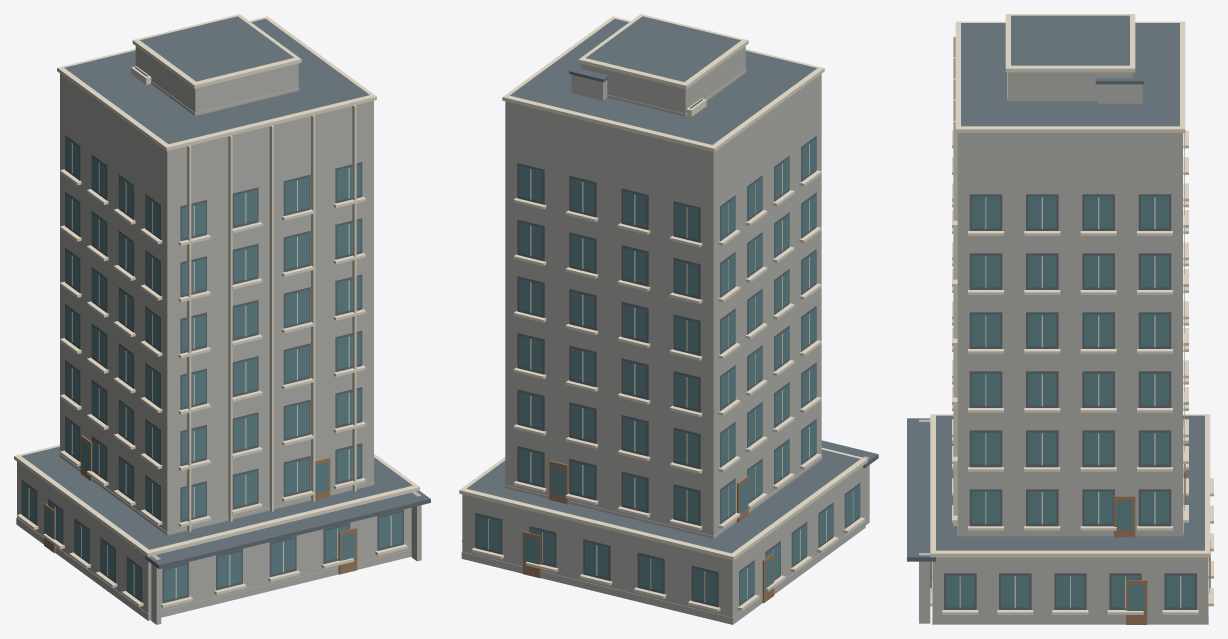
Rendered from q03-office.glb.
The picture shows the model from 3 angles, left to right: view 1: azimuth 30°, elevation 25°; view 2: azimuth 150°, elevation 25°; view 3: azimuth 270°, elevation 25°; orthographic projection. The views are drawn at different scales.
Bounding box in the file's own units: 13.46 × 22.69 × 12.26.
